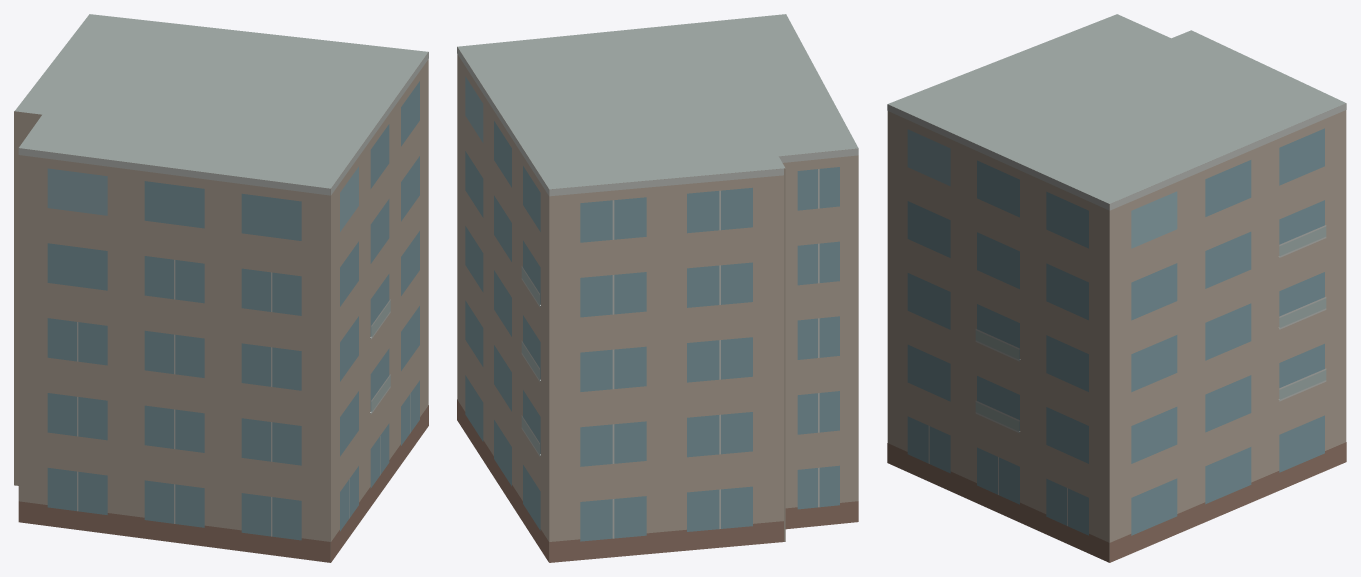
The model's file is survey-upis-32888632.glb.
3 views of the same model, side by side, from view 1: azimuth 30°, elevation 25°; view 2: azimuth 150°, elevation 25°; view 3: azimuth 270°, elevation 25° (orthographic). The views are drawn at different scales.
Visible parts, largest first — view 1: survey-upis-32888632.tmp; view 2: survey-upis-32888632.tmp; view 3: survey-upis-32888632.tmp.
Boxes of the visible parts, x1=… form: survey-upis-32888632.tmp: x1=14, y1=14, x2=428, y2=562; survey-upis-32888632.tmp: x1=457, y1=14, x2=858, y2=562; survey-upis-32888632.tmp: x1=887, y1=14, x2=1346, y2=562.
Size of the model in its own units: 14.89 by 13.1 by 15.2.
